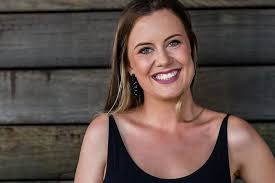black_female: (107, 1, 209, 107)
